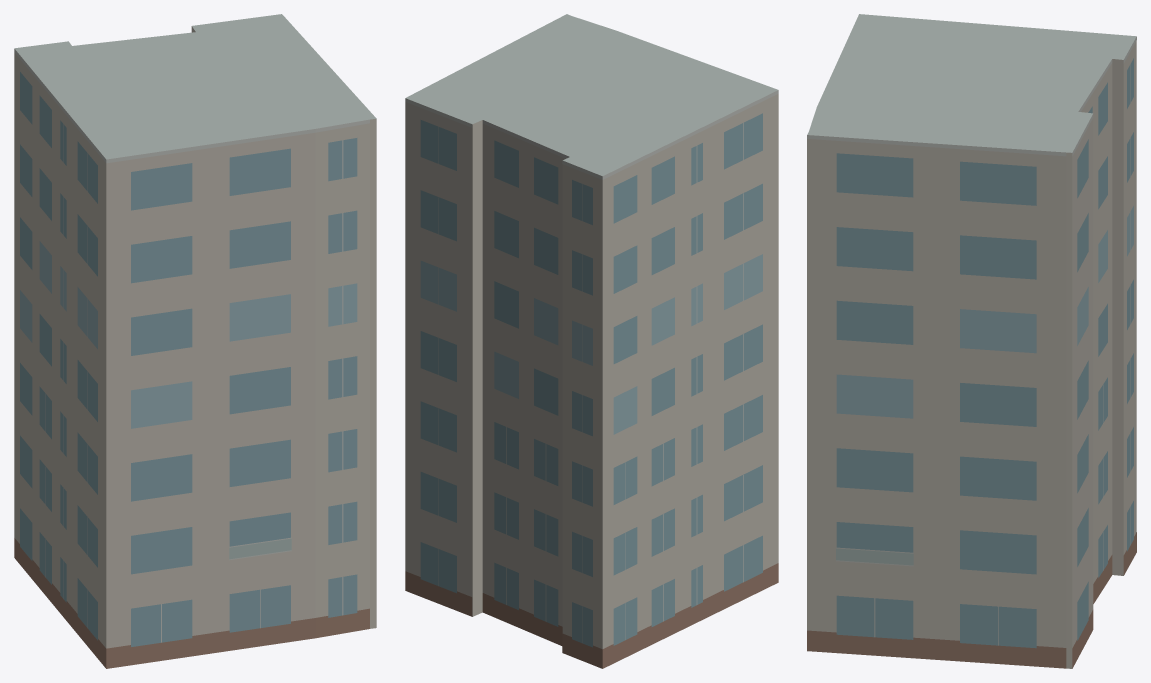
Rendered from survey-upis-32911841.glb.
3 views of the same model, side by side, from view 1: azimuth 30°, elevation 25°; view 2: azimuth 150°, elevation 25°; view 3: azimuth 270°, elevation 25° (orthographic). The views are drawn at different scales.
Visible parts, largest first — view 1: survey-upis-32911841.tmp; view 2: survey-upis-32911841.tmp; view 3: survey-upis-32911841.tmp.
Part boxes in pixels (<box>): survey-upis-32911841.tmp: <box>14,14,376,668</box>; survey-upis-32911841.tmp: <box>405,14,778,668</box>; survey-upis-32911841.tmp: <box>807,14,1136,668</box>.
Size of the model in its own units: 18.81 by 32.6 by 18.88.
